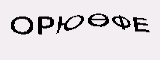Е: (132, 14, 150, 35)
О: (6, 15, 36, 38)
Р: (35, 12, 53, 36)
Ф: (110, 12, 131, 33)
Ю: (55, 14, 84, 34)
Ө: (87, 10, 111, 31)
